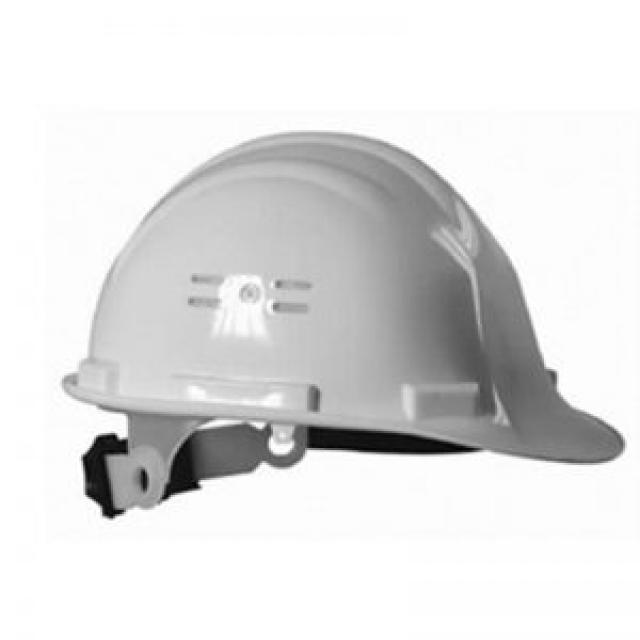safety_helmet: (60, 132, 625, 518)
